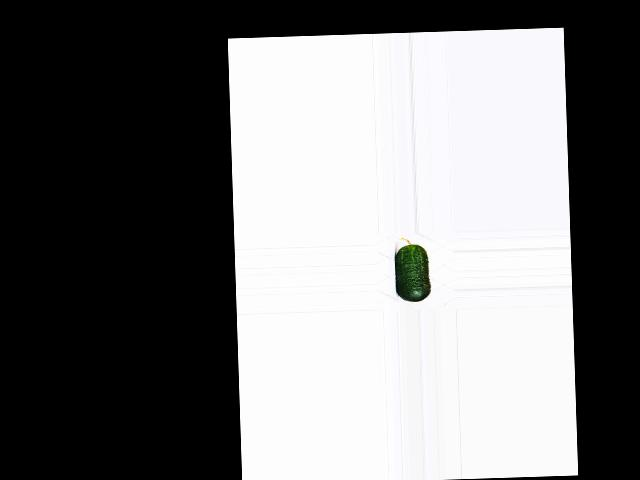cucumber: (394, 237, 430, 302)
